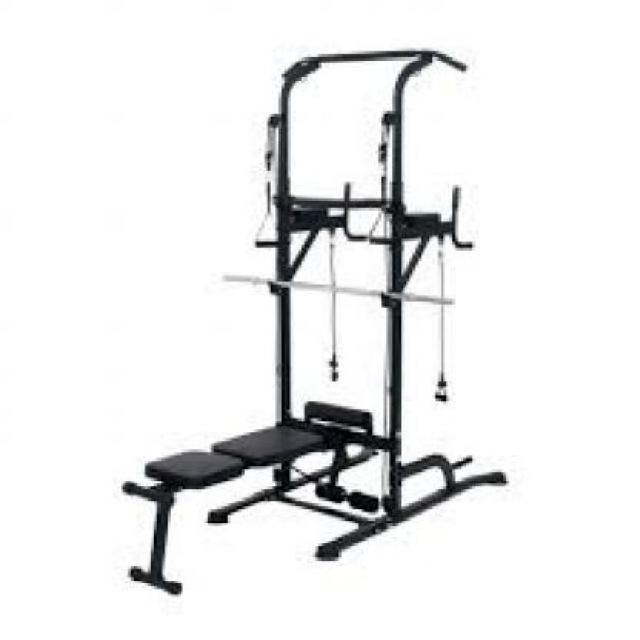chinning dipping: (220, 46, 508, 559)
